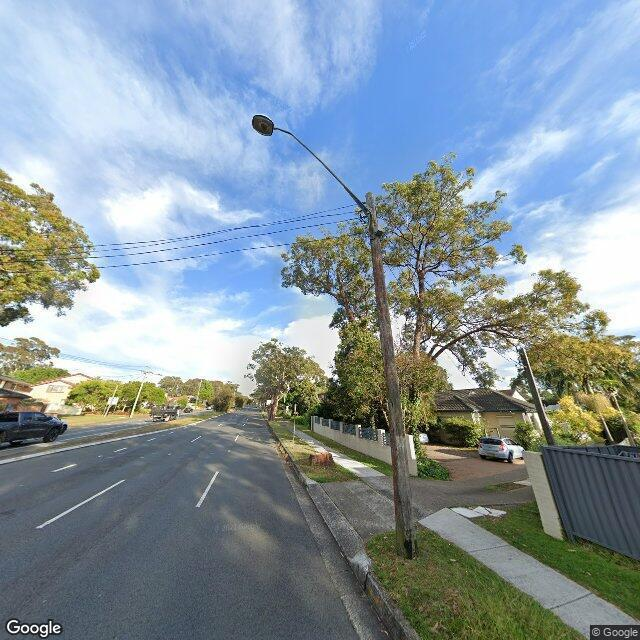streetlight: (251, 114, 372, 224)
timber-pole: (366, 193, 419, 560), (519, 346, 553, 449), (129, 371, 147, 419)
